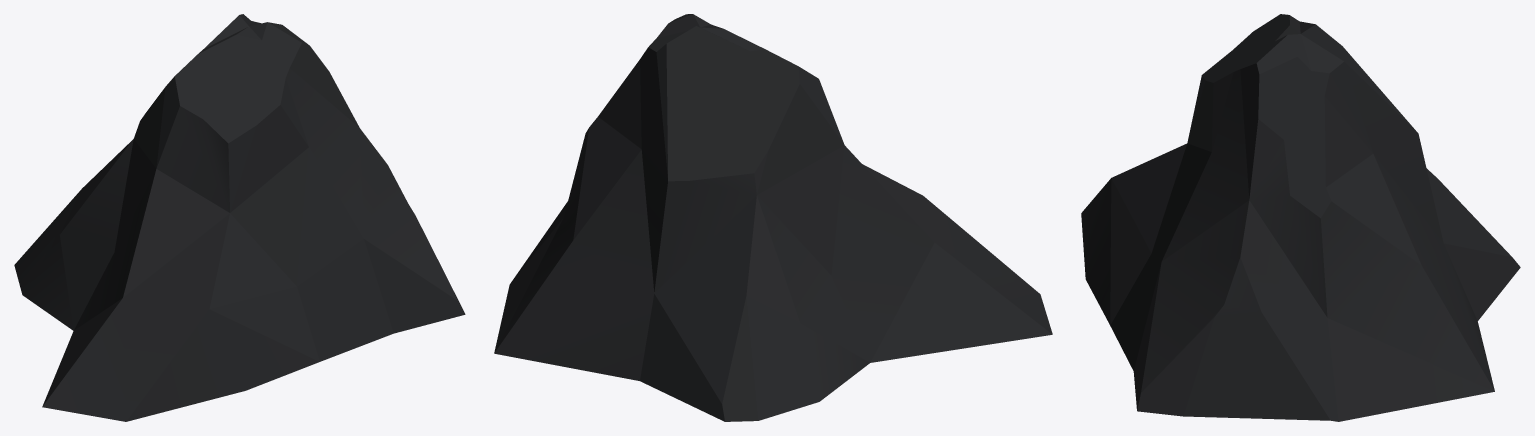
File: Rock_8.fbx
The picture shows the model from 3 angles, left to right: view 1: azimuth 30°, elevation 25°; view 2: azimuth 150°, elevation 25°; view 3: azimuth 270°, elevation 25°; orthographic projection. The views are drawn at different scales.
Parts seen in each view (by area): view 1: Rock_8; view 2: Rock_8; view 3: Rock_8.
Part boxes in pixels (x1=…): Rock_8: x1=14, y1=14, x2=465, y2=421; Rock_8: x1=494, y1=14, x2=1052, y2=421; Rock_8: x1=1081, y1=14, x2=1520, y2=421.
Bounding box in the file's own units: 55.37 × 33.87 × 43.84.
